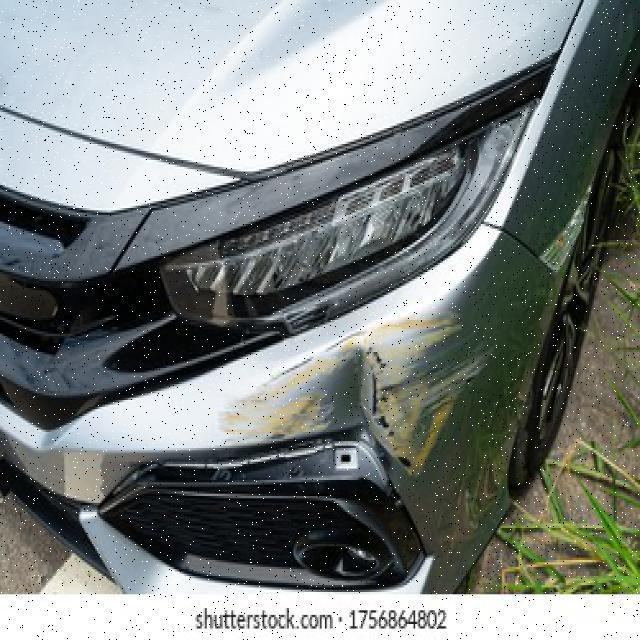front-bumper-dent: (29, 302, 530, 574)
